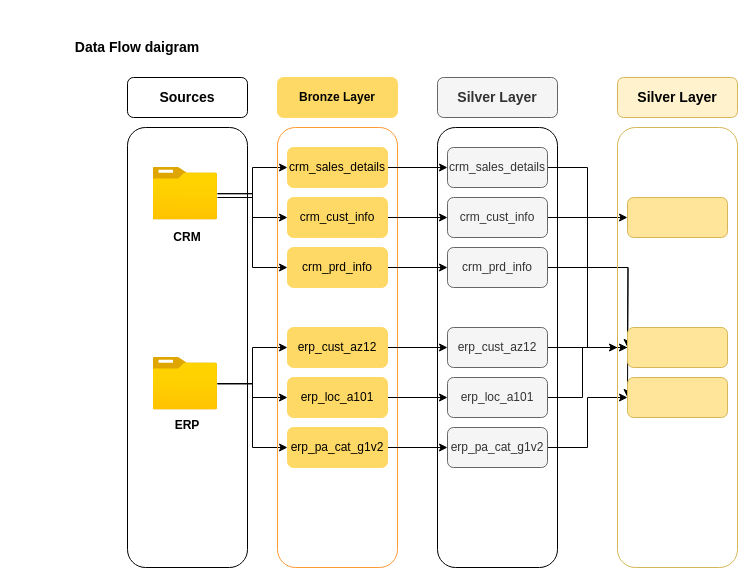
Image size: 755x585. Some labels were removed from this diagram. The shapes that lost their labels are listed below. From the top down, each one's box as (x1, y1, x2, y2) in pixels, then its label:
(626, 196, 728, 238): fact_sales
(626, 326, 728, 368): dim_customers
(626, 376, 728, 418): dim_products
